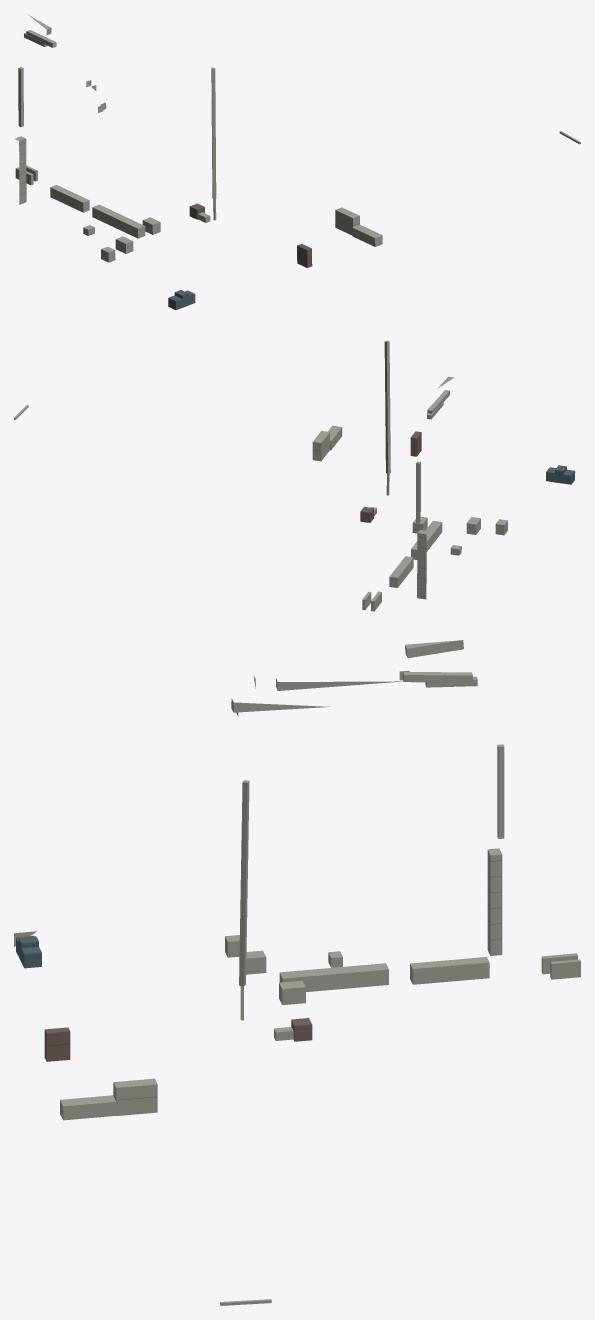
The model's file is terminal-28---122_-20.glb.
3 renders of one model, top to bottom at view 1: azimuth 30°, elevation 25°; view 2: azimuth 150°, elevation 25°; view 3: azimuth 270°, elevation 25°, orthographic. The views are drawn at different scales.
Visible parts, largest first — view 1: measured-industrial; view 2: measured-industrial; view 3: measured-industrial.
Boxes of the visible parts, bbox=[...] form: measured-industrial: bbox=[14, 15, 580, 309]; measured-industrial: bbox=[14, 340, 575, 611]; measured-industrial: bbox=[14, 640, 580, 1305].
Bounding box in the file's own units: 146 × 56.73 × 94.05.
